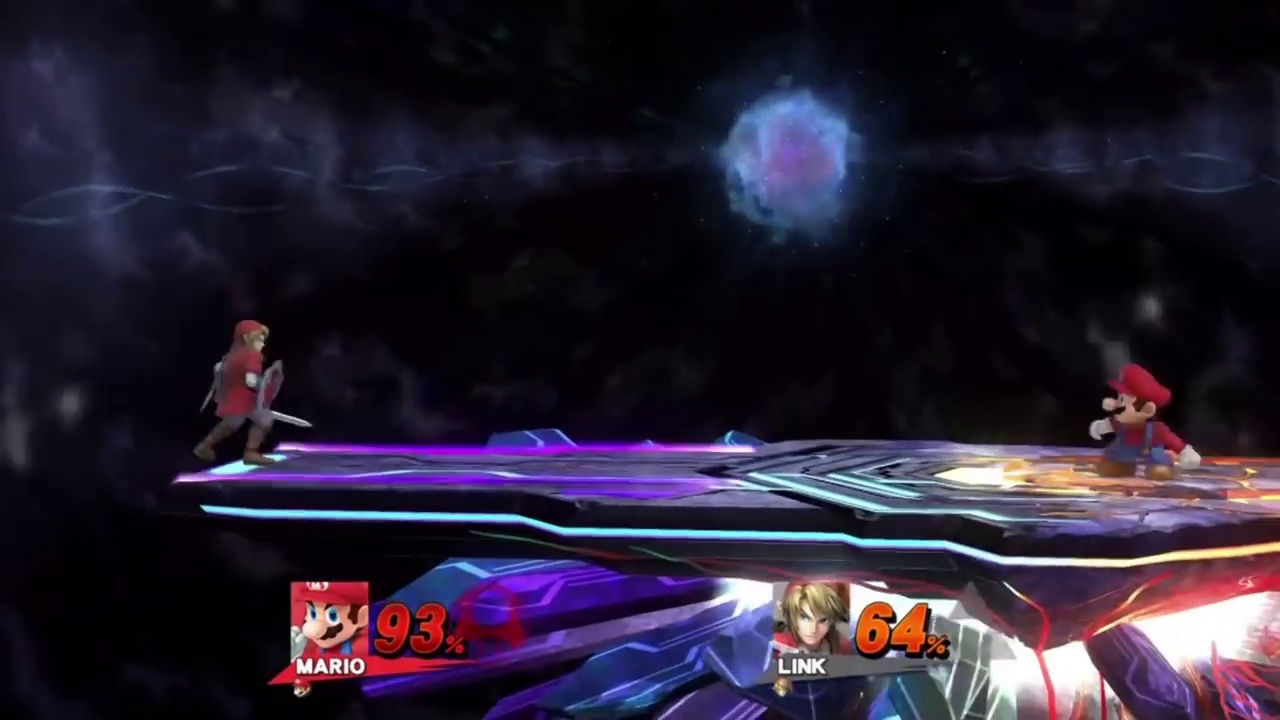Mario: (1090, 364, 1204, 485)
